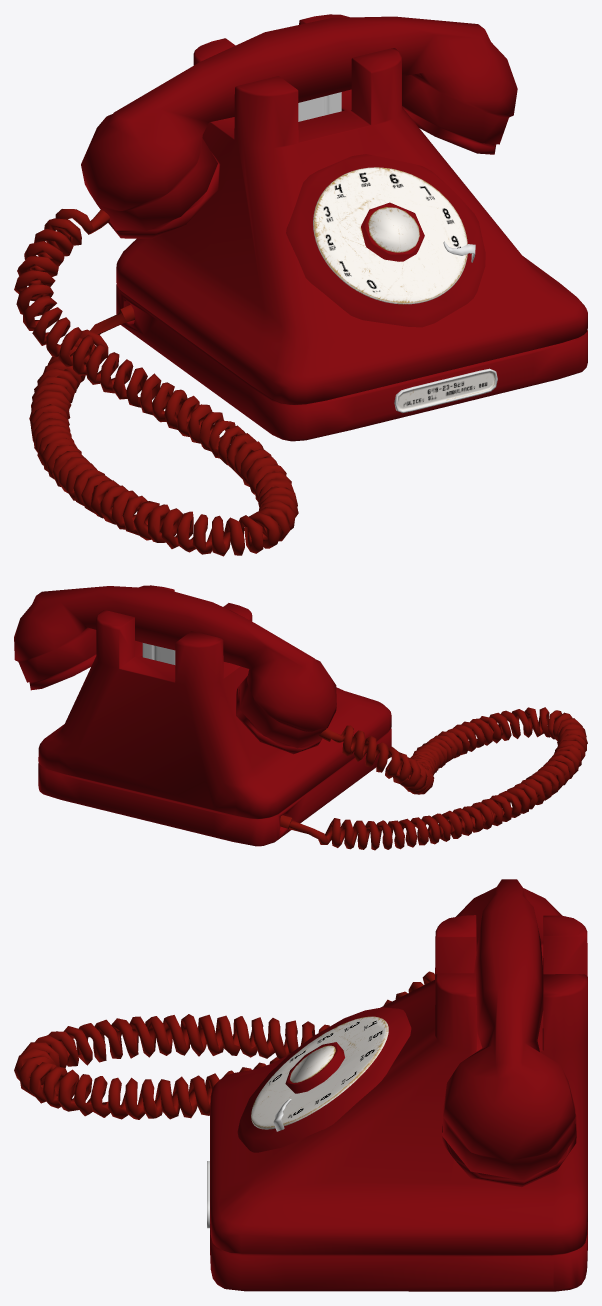
The model's file is Phone.fbx.
The picture shows the model from 3 angles, top to bottom: view 1: azimuth 30°, elevation 25°; view 2: azimuth 150°, elevation 25°; view 3: azimuth 270°, elevation 25°; orthographic projection. The views are drawn at different scales.
Parts seen in each view (by area): view 1: Phone Body.001, Phone.001, Cord.002, Cylinder.001, Dialer Holder.001, Label.001, Dialer Holder.002, Phone Switch.001; view 2: Phone Body.001, Phone.001, Cord.002, Phone Switch.001; view 3: Phone Body.001, Phone.001, Cord.002, Dialer Holder.001, Cylinder.001, Dialer Holder.002.
Boxes of the visible parts, x1,y1,x2,y2 form: Phone Body.001: (116, 14, 587, 441); Phone.001: (81, 16, 517, 238); Cord.002: (14, 209, 298, 556); Cylinder.001: (313, 167, 467, 304); Dialer Holder.001: (286, 154, 485, 327); Label.001: (394, 368, 497, 412); Dialer Holder.002: (368, 207, 419, 252); Phone Switch.001: (298, 92, 341, 121); Phone Body.001: (38, 585, 391, 846); Phone.001: (14, 586, 336, 754); Cord.002: (280, 707, 587, 850); Phone Switch.001: (142, 643, 175, 664); Phone Body.001: (210, 915, 587, 1291); Phone.001: (442, 879, 576, 1187); Cord.002: (14, 971, 434, 1119); Dialer Holder.001: (237, 1007, 411, 1152); Cylinder.001: (251, 1016, 388, 1129); Dialer Holder.002: (290, 1045, 335, 1082).
Size of the model in its own units: 89.65 by 43.43 by 75.02.
